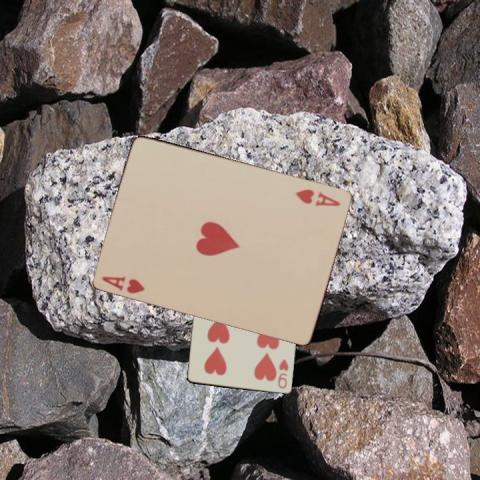9h: (275, 356, 290, 390)
Ah: (99, 272, 146, 294), (293, 186, 342, 207)
